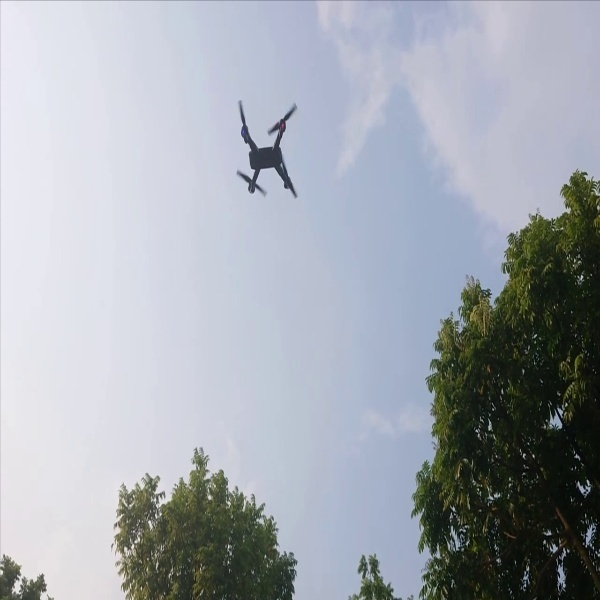drone: (227, 87, 310, 208)
